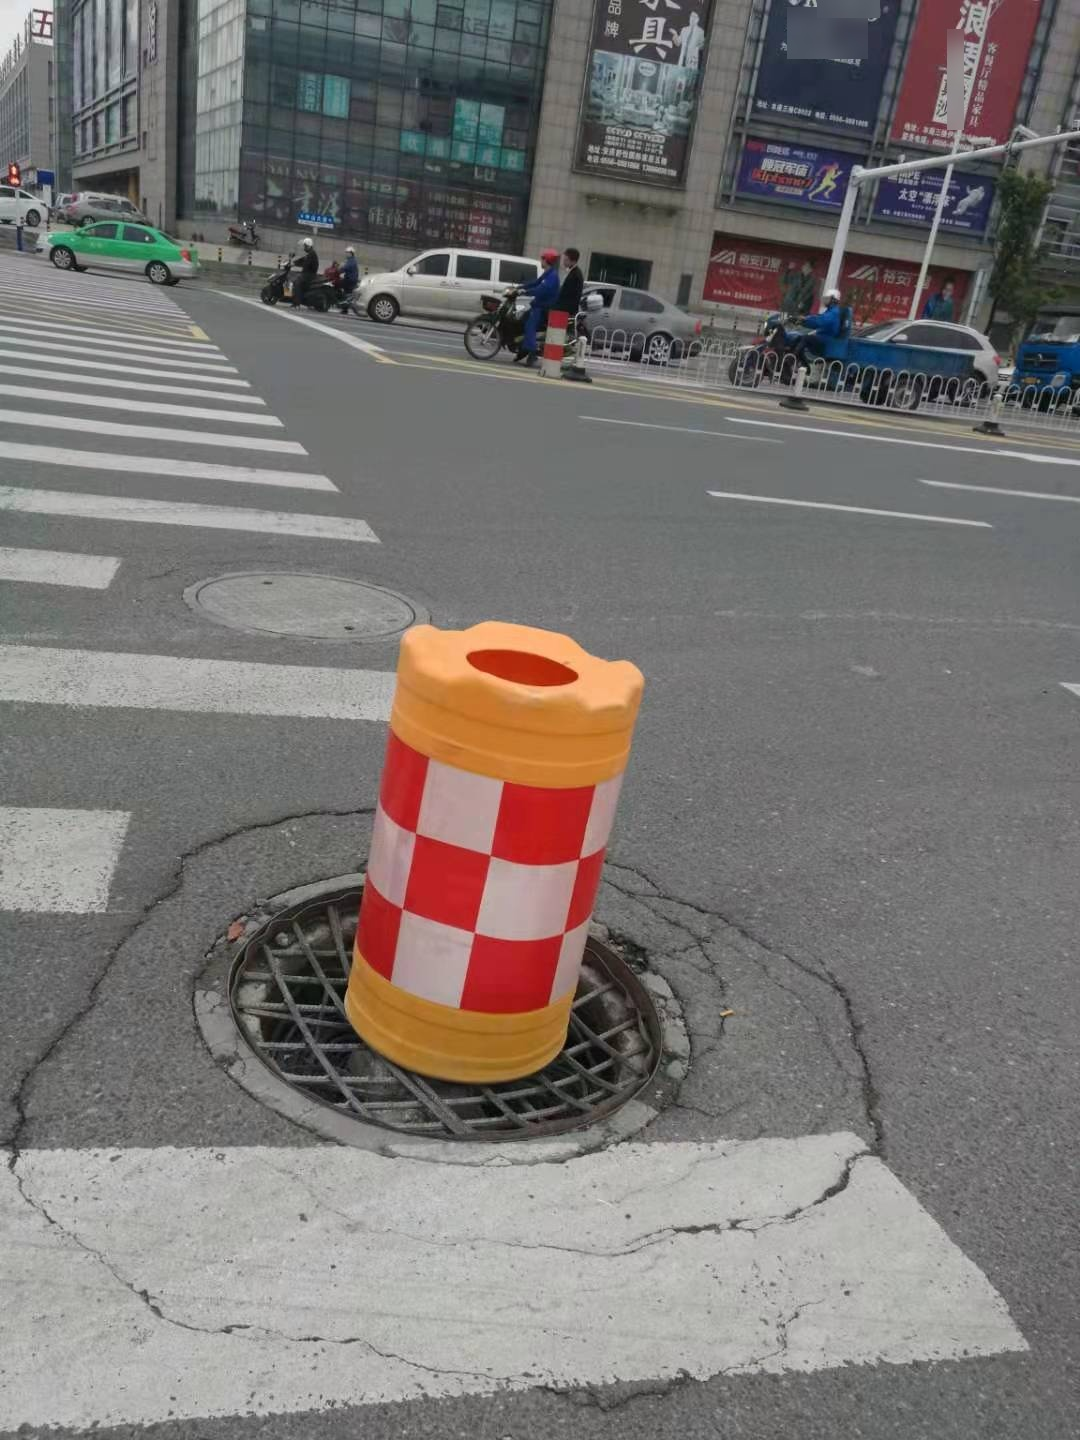broke: (194, 863, 694, 1168)
